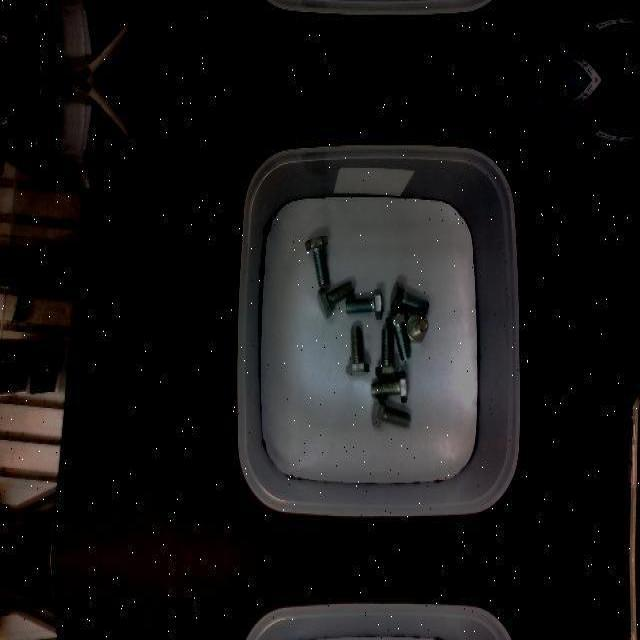screw: (317, 280, 354, 318), (371, 394, 411, 428), (390, 281, 429, 315), (385, 311, 411, 361), (370, 370, 407, 404), (374, 328, 398, 380), (304, 235, 328, 285), (345, 326, 369, 376), (345, 289, 382, 319), (404, 314, 428, 342)
